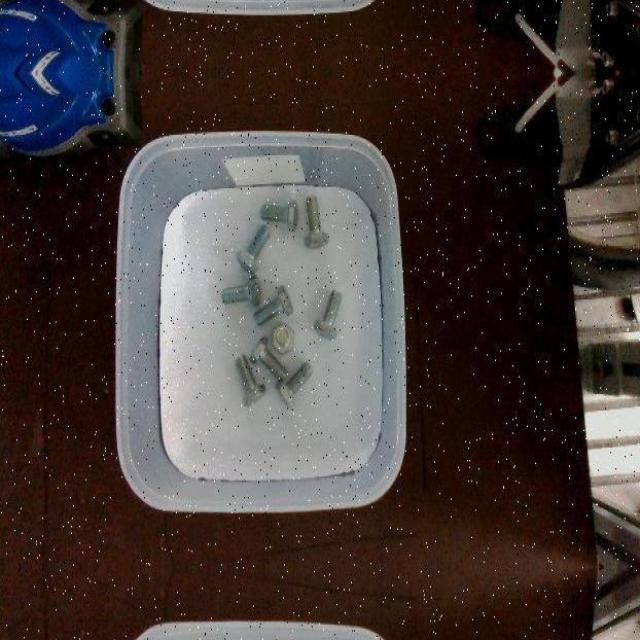screw: (236, 222, 272, 274), (249, 334, 288, 381), (277, 360, 314, 408), (234, 354, 266, 406), (255, 285, 294, 326), (314, 288, 342, 340), (220, 276, 262, 307), (305, 194, 329, 248), (260, 200, 300, 232), (273, 322, 294, 353)
